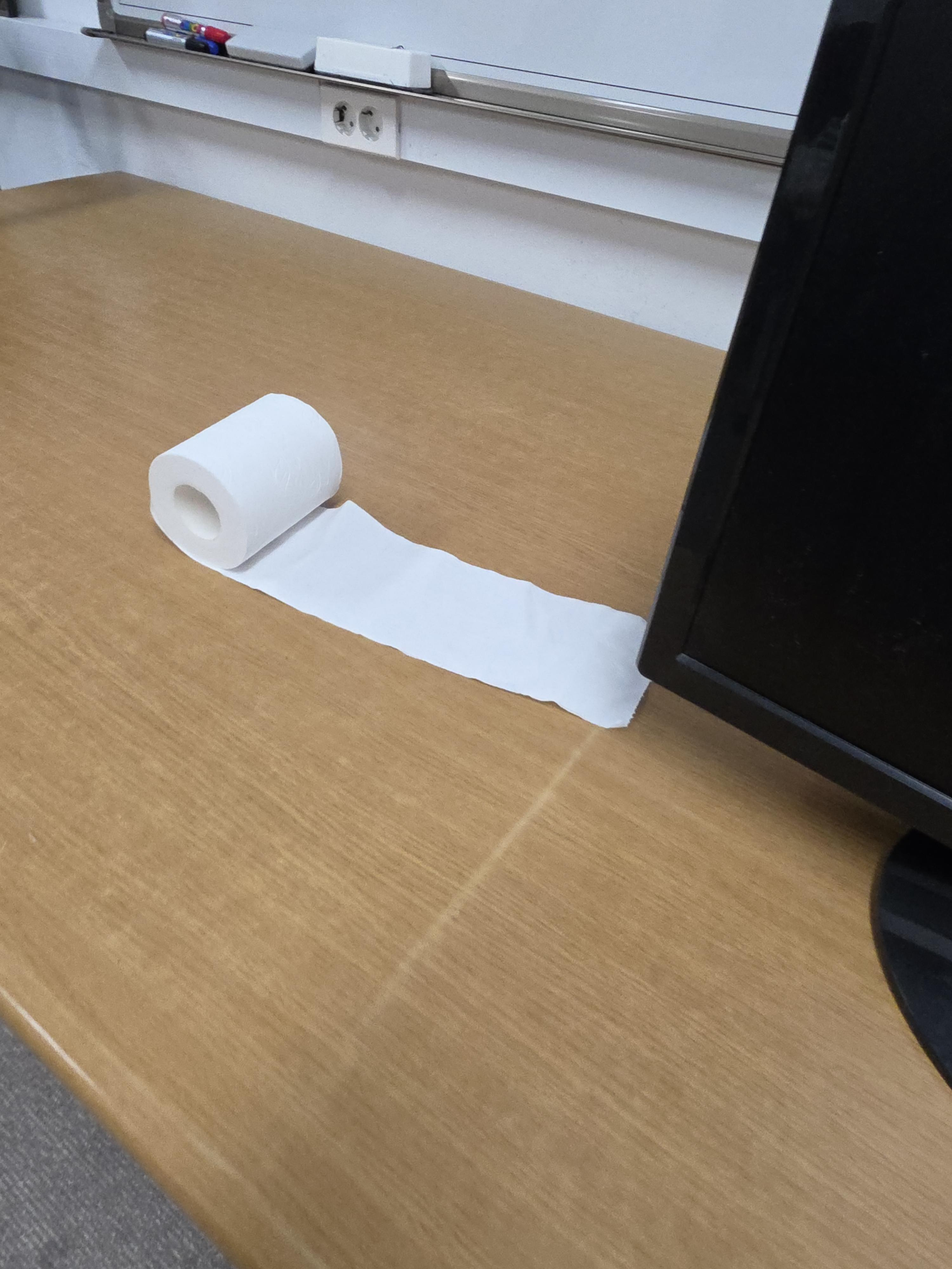tissue: (148, 391, 650, 729)
